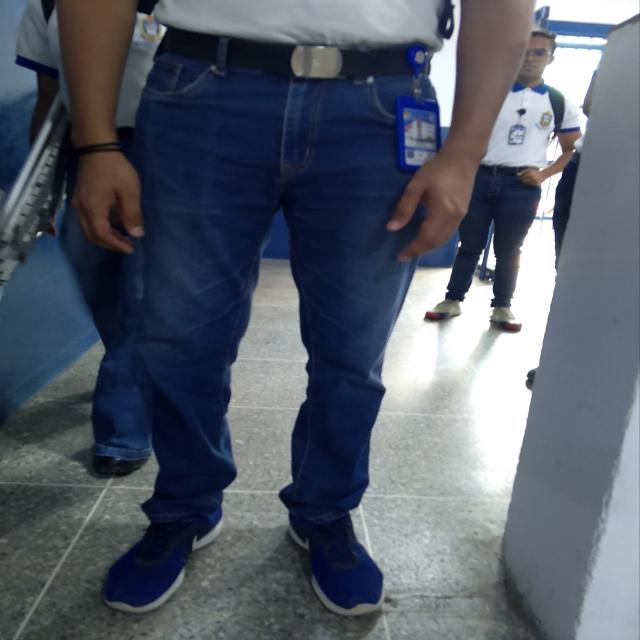carnet: (403, 108, 438, 166), (508, 126, 526, 145)
pantalon_oscuro: (124, 55, 438, 525), (445, 171, 541, 307)
uniforme_superior: (13, 0, 172, 130), (479, 79, 580, 167)
